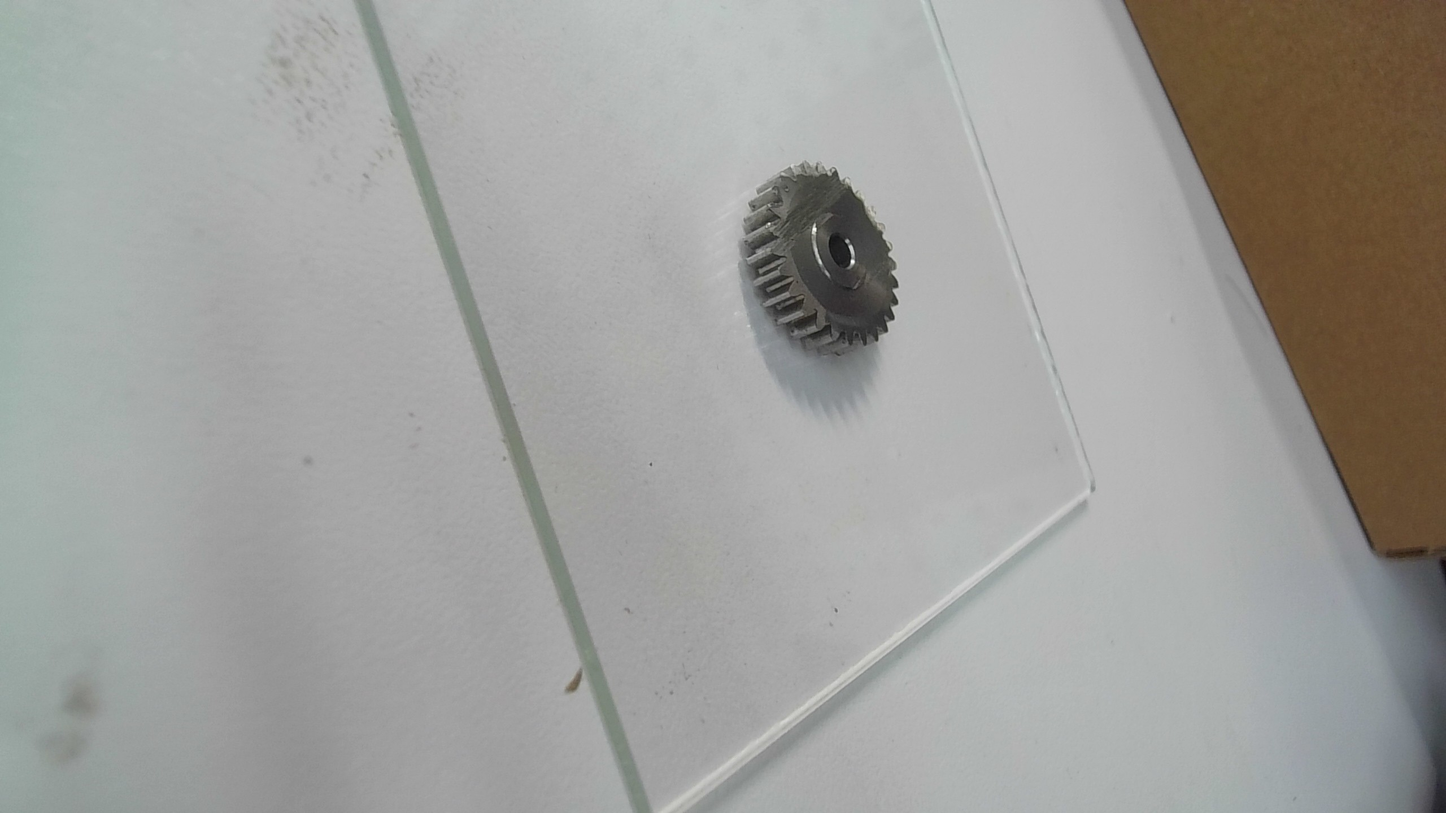gear: (738, 162, 903, 355)
